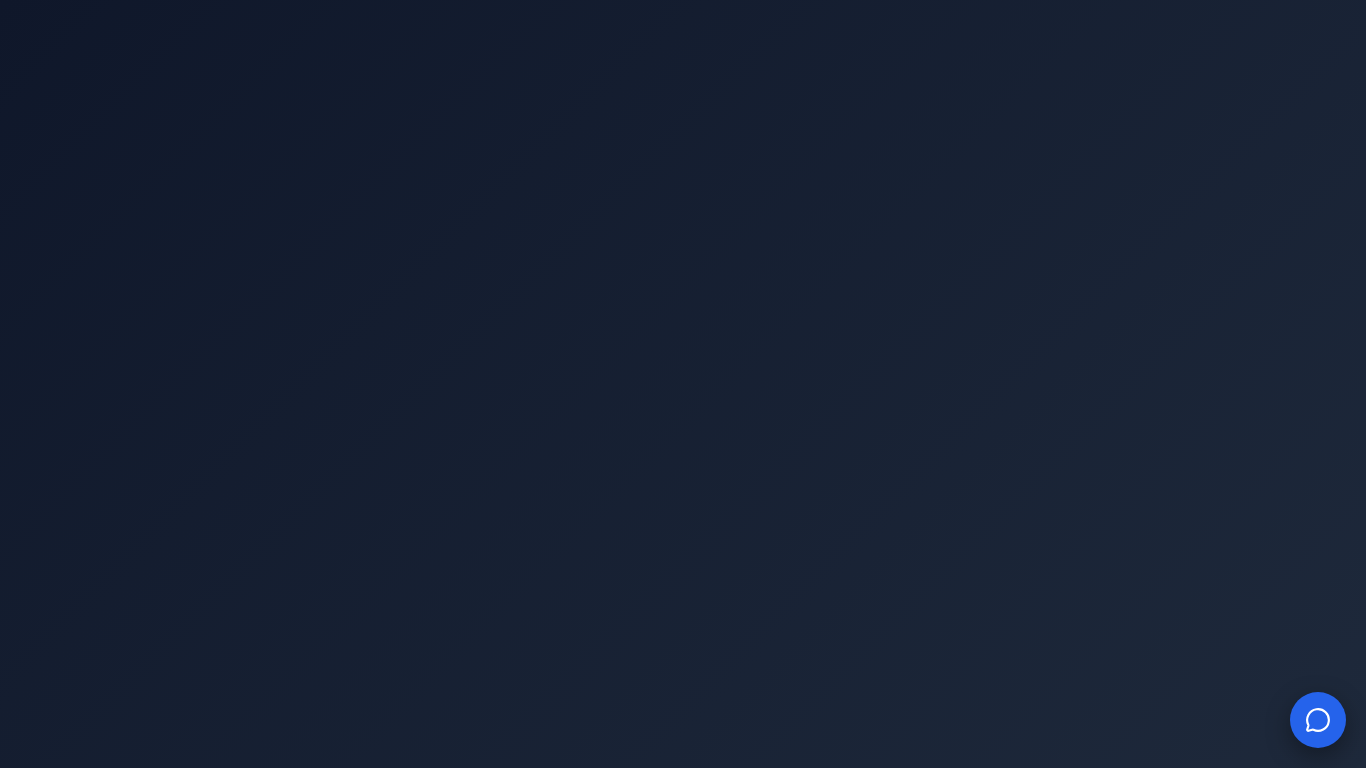
ChatWidget › avisa cuando la respuesta tiene cifras que no están en los datos
Step 1. Click the button named "Abrir el asistente del clima" → x=1318, y=720, box [1290,692,1346,748]
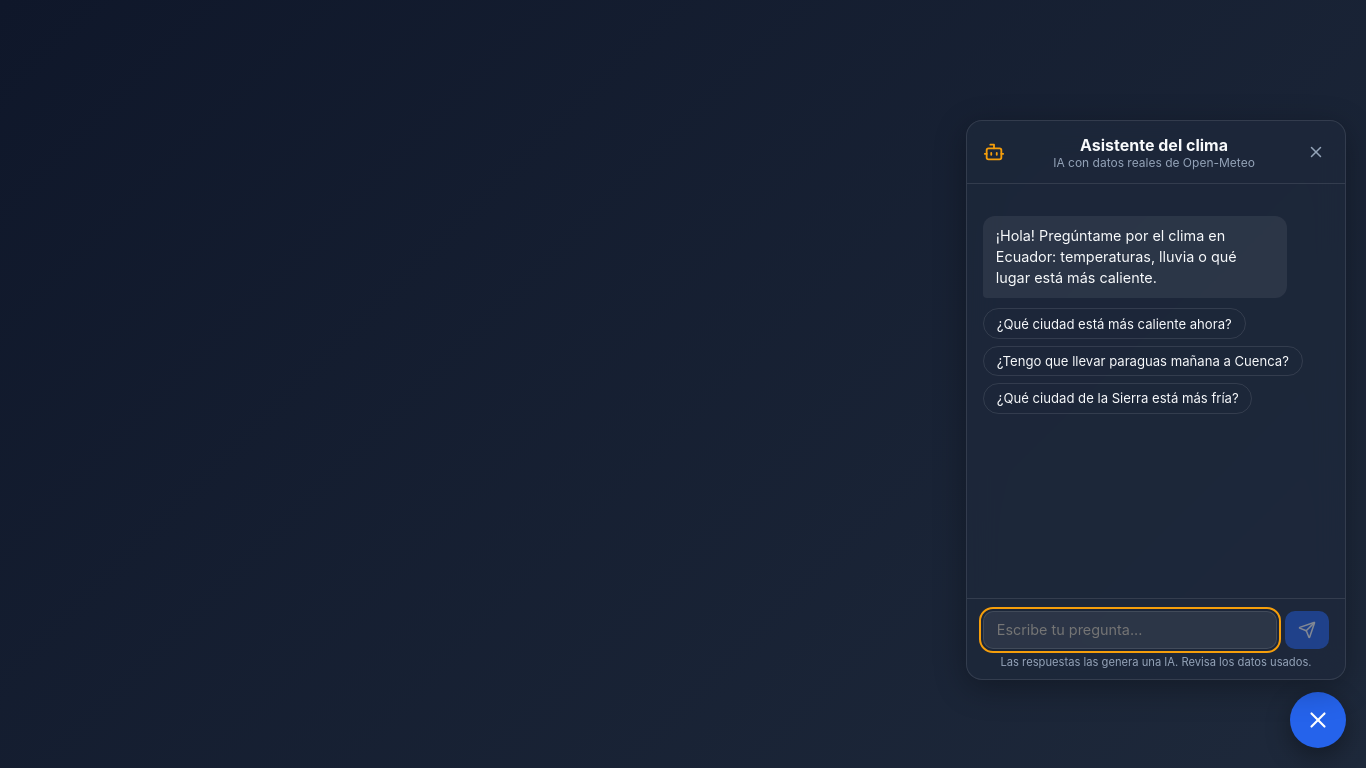
Step 2. Type "¿Calor en Quito?" into the field labelled "Escribe tu pregunta" → x=1130, y=630, box [983,611,1277,649]
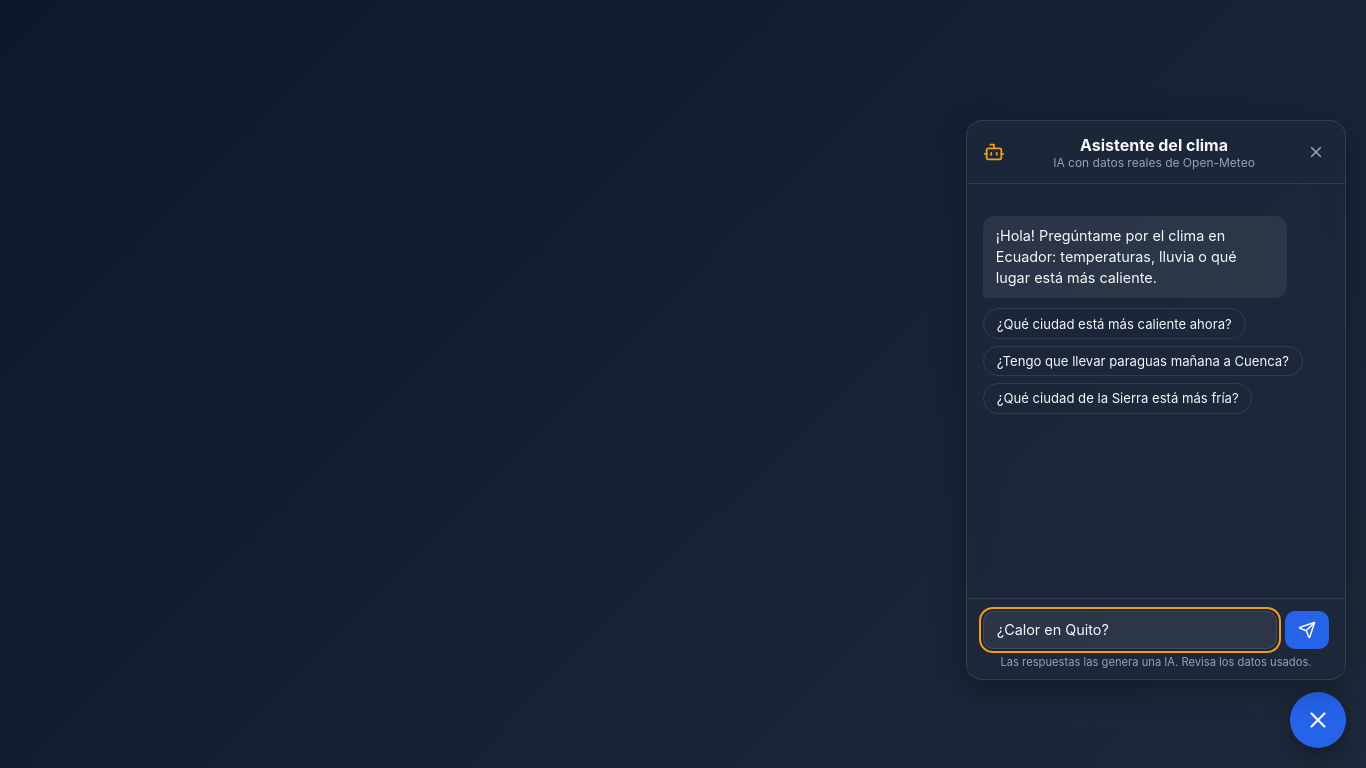
Step 3. Click the button named "Enviar pregunta" → x=1307, y=630, box [1285,611,1329,649]
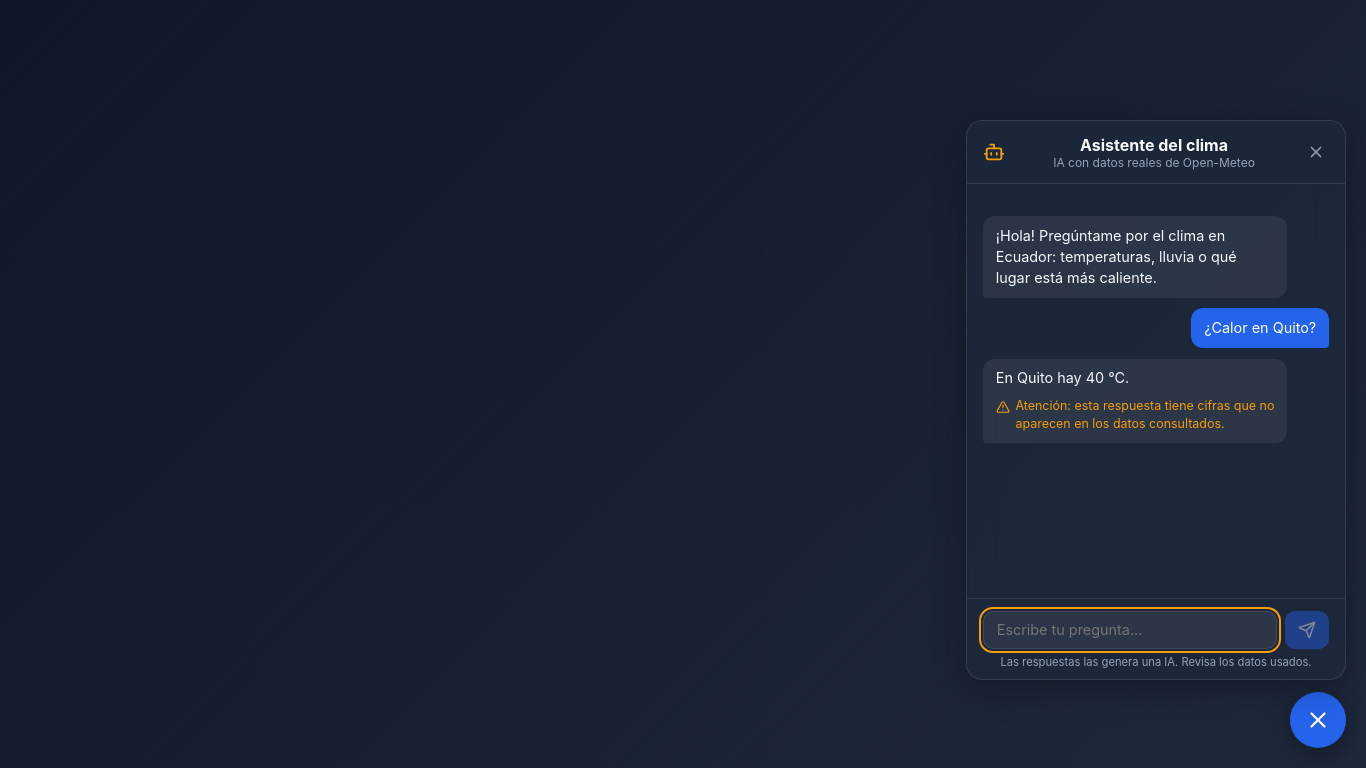
Result: the text "Atención: esta respuesta tiene cifras" is shown at [1015,398,1274,431]
